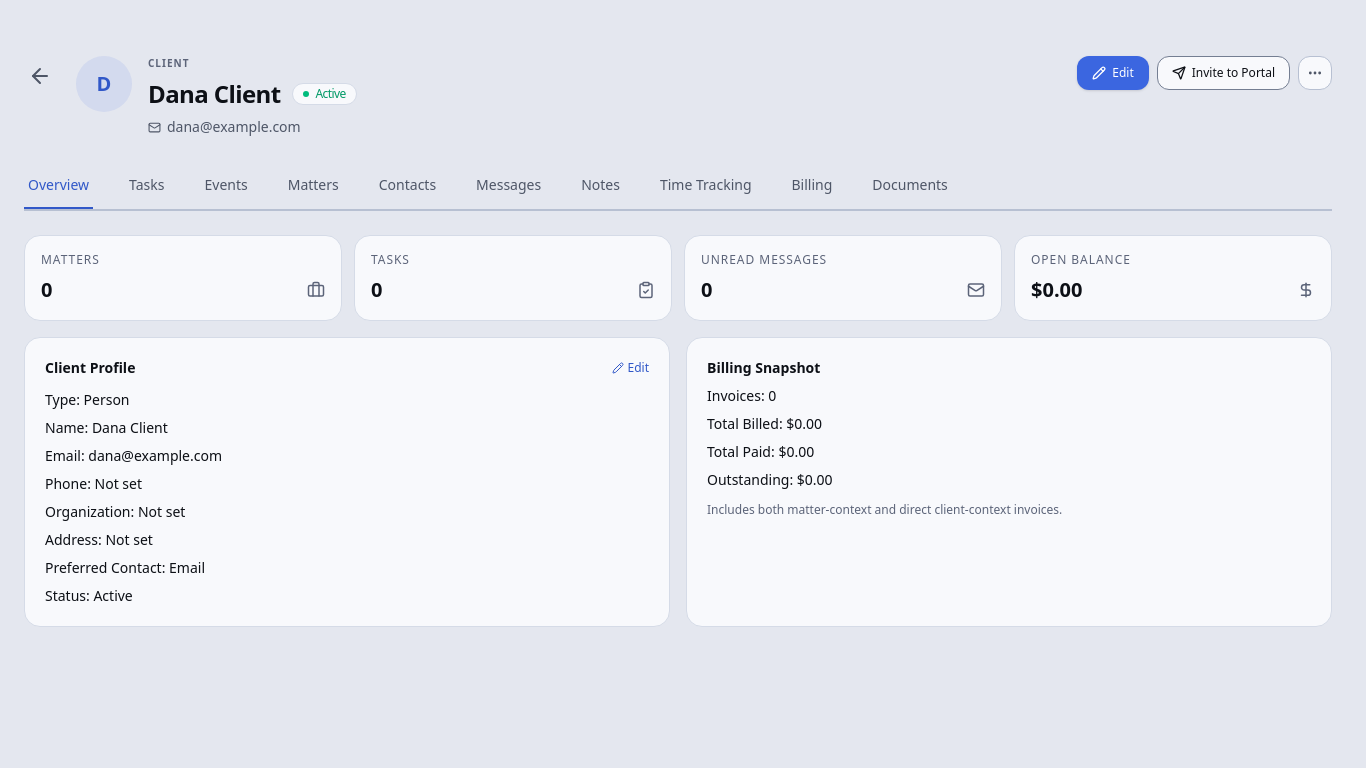
Test case: portal invitation › tells the member the invite waits for signup when the person has no account yet
Check: the heading "Dana Client Active" is shown, box [148,77,357,110]
Click the button "Invite to Portal": {"x": 1223, "y": 73} [1157,56,1290,90]
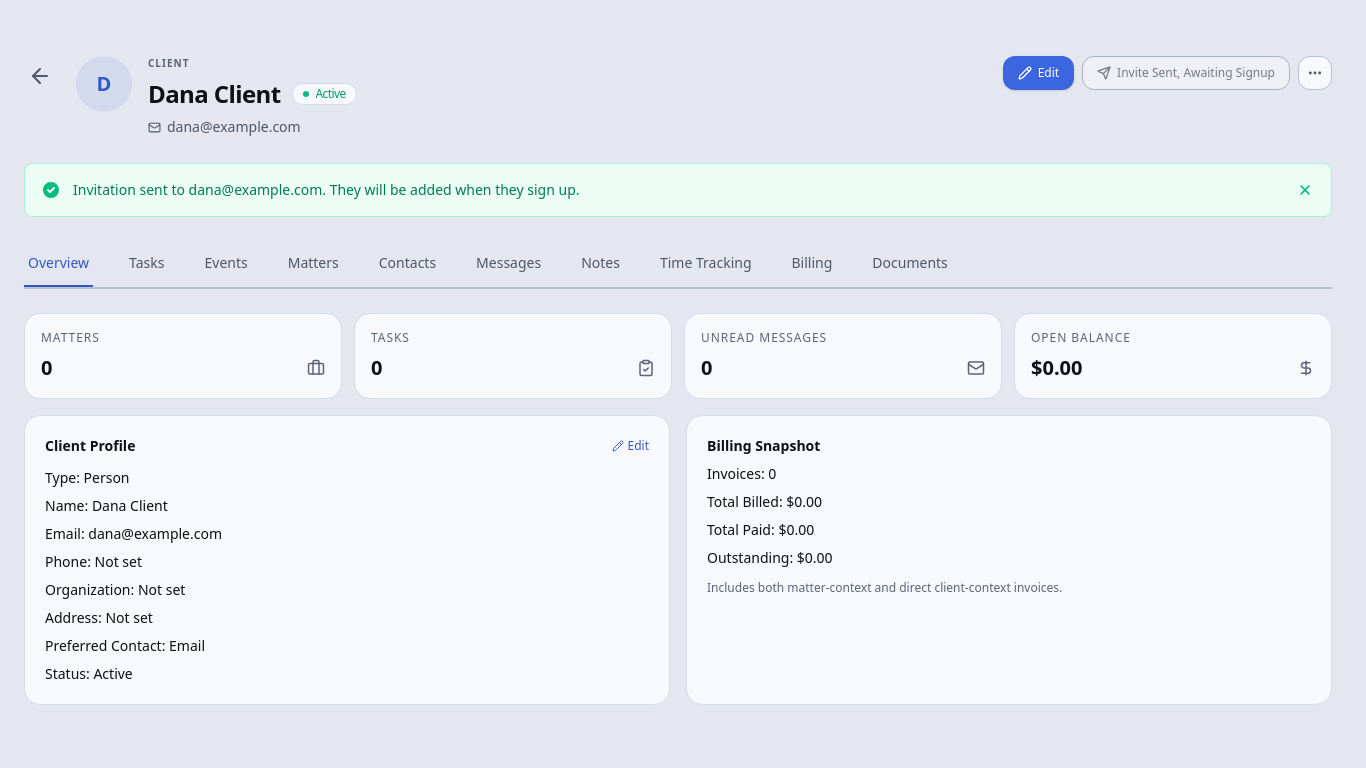
Check: the text "Invitation sent to dana@example.com. They will be added when they sign up." is shown, box [73,180,580,199]
Check: the button "Invite Sent, Awaiting Signup" is disabled, box [1082,56,1290,90]
